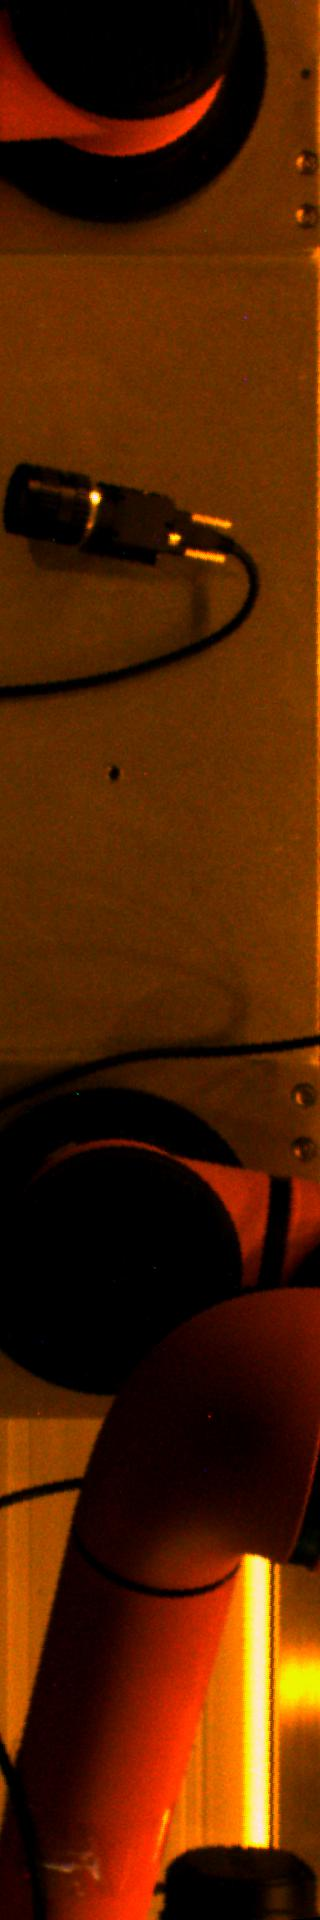keyPoint_2: (98, 760, 128, 790)
